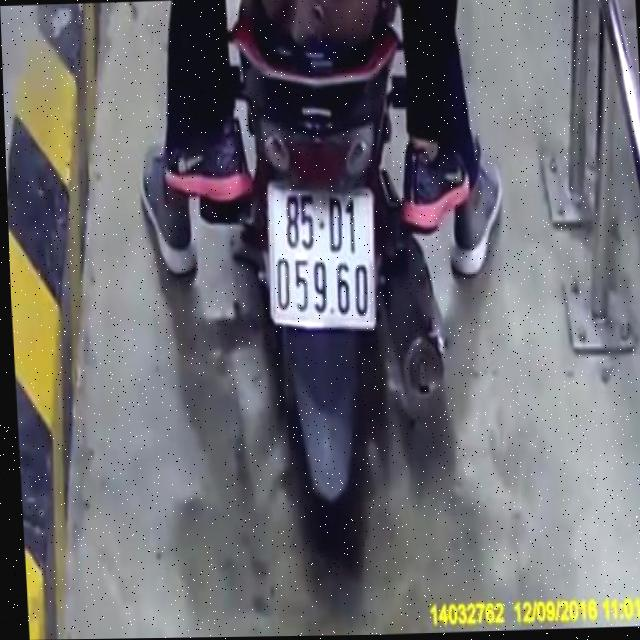motorcycle: (208, 0, 468, 562)
plate: (253, 176, 383, 330)
